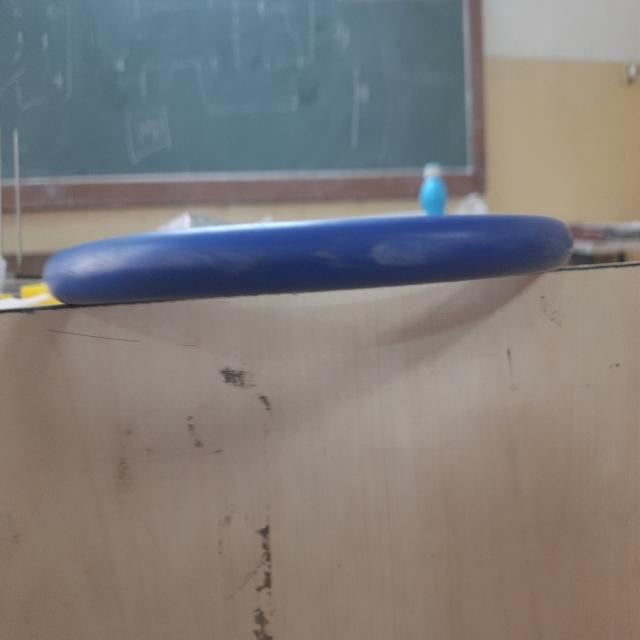daire: (49, 211, 566, 306)
